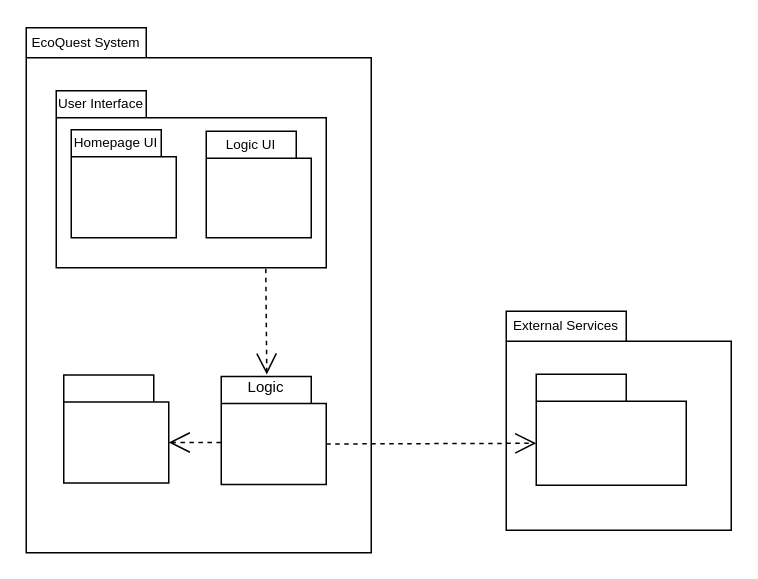
This 758x579 diagram has some shape labels left out. Here are the shapes that lost their labels. From the top down, the box of each, then its label:
(62, 374, 169, 483): Database
(535, 373, 686, 485): Sigarra FEUP
